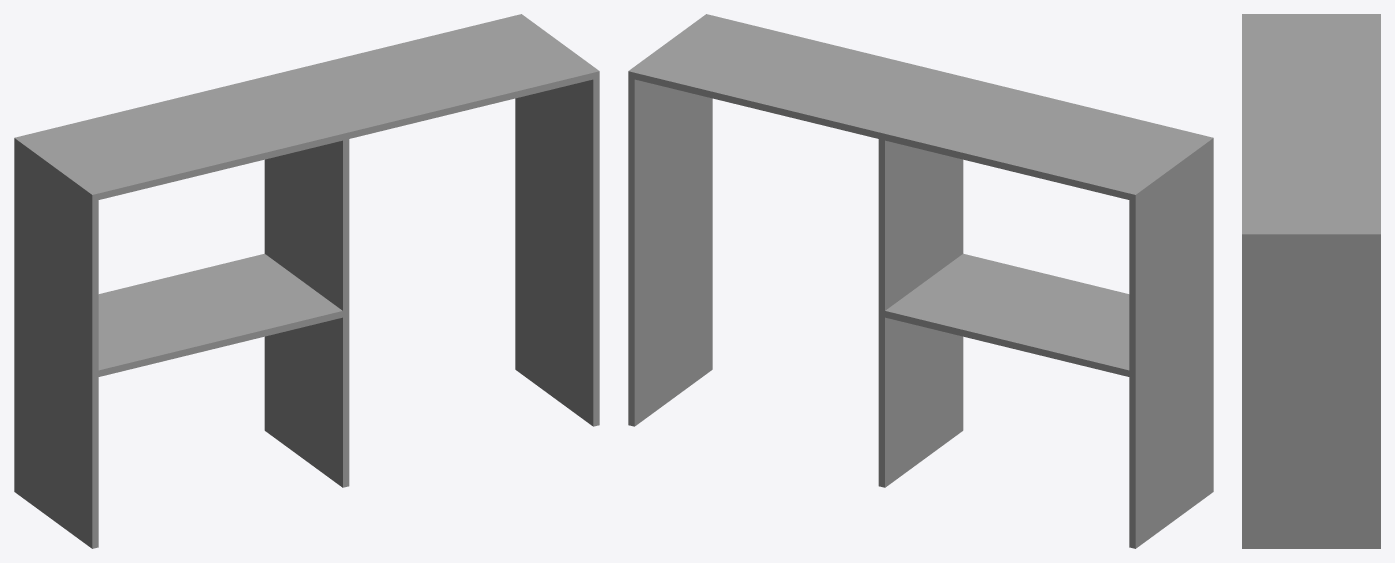
Rendered from meuble_68fb4d3069ea2.glb.
3 views of the same model, side by side, from view 1: azimuth 30°, elevation 25°; view 2: azimuth 150°, elevation 25°; view 3: azimuth 270°, elevation 25° (orthographic). The views are drawn at different scales.
Parts seen in each view (by area): view 1: world; view 2: world; view 3: world.
Boxes of the visible parts, left/top/right/bottom form: world: left=14, top=14, right=599, bottom=548; world: left=628, top=14, right=1213, bottom=548; world: left=1242, top=14, right=1380, bottom=548.
Size of the model in its own units: 1.5 by 1 by 0.4.
Materials: 1 (1 with a texture image).
